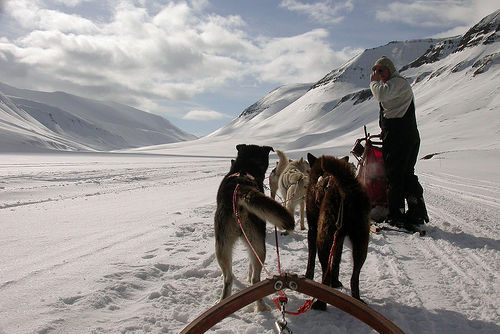dog: (213, 142, 292, 299), (306, 152, 370, 311), (265, 146, 292, 200)
